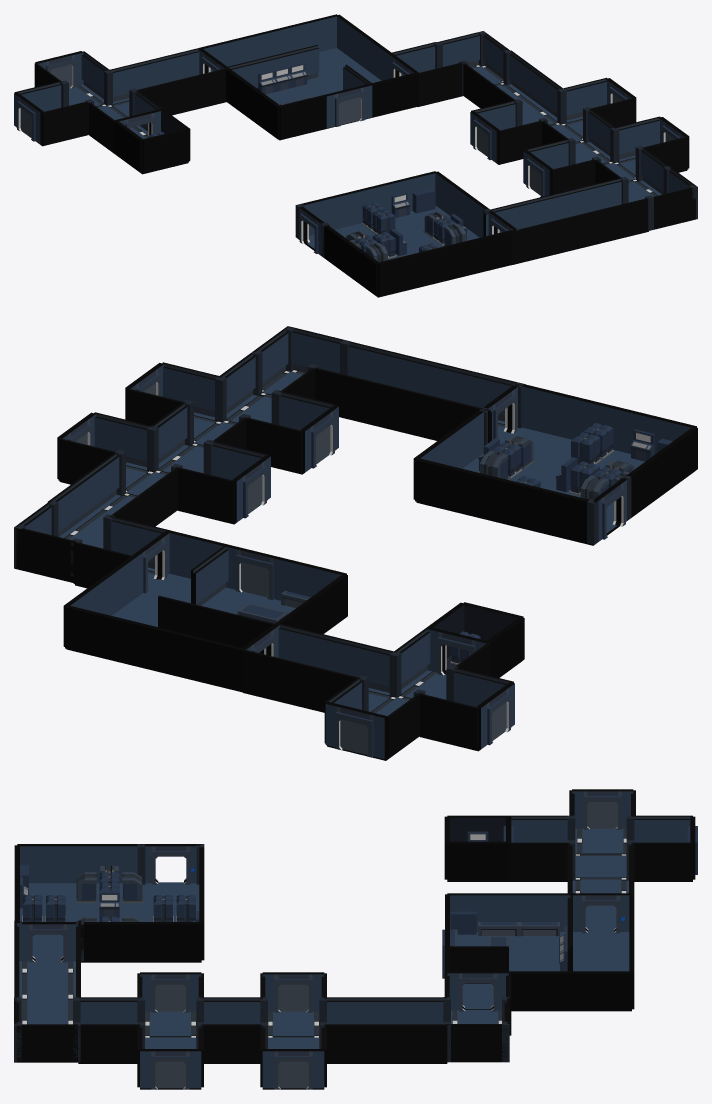
The model's file is LEVEL1.fbx.
3 views of the same model, one above another, from view 1: azimuth 30°, elevation 25°; view 2: azimuth 150°, elevation 25°; view 3: azimuth 270°, elevation 25° (orthographic). The views are drawn at different scales.
Visible parts, largest first — view 1: LaboratorySquareFloor, LaboratorySquareFloor.001, PanicRoomWall, LaboratoryWall.003, LaboratoryWall, LaboratoryWall.018, LaboratoryWall.011, HallwayWallStraight.025, HallwayWallStraight.027, HallwayWallStraight.000, HallwayWallStraight.014, HallwayWallStraight.009 (+63 smaller); view 2: LaboratorySquareFloor.001, LaboratorySquareFloor, LaboratoryWall.015, LaboratoryWall.006, LaboratoryWall.016, LaboratoryWall.007, LaboratoryWall.005, HallwayWallStraight.026, HallwayWallStraight.008, HallwayWallStraight.005, HallwayWallStraight.030, HallwayWallStraight.034 (+69 smaller); view 3: LaboratorySquareFloor, LaboratorySquareFloor.001, LaboratoryWall.017, LaboratoryWall.008, PanicRoomWall.003, HallwayWallStraight.016, LaboratoryWall.001, HallwayWallStraight.032, LaboratoryWall.010, HallwayWallStraight.003, HallwayWallStraight.002, HallwayWallStraight.018 (+51 smaller).
Boxes of the visible parts, box(x1,y1,x2,y2) form: LaboratorySquareFloor: box(265, 48, 417, 140); LaboratorySquareFloor.001: box(305, 205, 510, 297); PanicRoomWall: box(142, 128, 189, 172); LaboratoryWall.003: box(279, 95, 326, 139); LaboratoryWall: box(371, 72, 418, 117); LaboratoryWall.018: box(378, 251, 424, 296); LaboratoryWall.011: box(423, 240, 470, 285); HallwayWallStraight.025: box(557, 209, 604, 252); HallwayWallStraight.027: box(512, 220, 558, 263); HallwayWallStraight.000: box(42, 101, 87, 144); HallwayWallStraight.014: box(418, 62, 464, 105); HallwayWallStraight.009: box(181, 68, 227, 111); LaboratorySquareFloor.001: box(416, 428, 693, 545); LaboratorySquareFloor: box(66, 573, 295, 692); LaboratoryWall.015: box(474, 472, 535, 529); LaboratoryWall.006: box(124, 619, 184, 676); LaboratoryWall.016: box(415, 458, 475, 515); LaboratoryWall.007: box(65, 606, 126, 662); LaboratoryWall.005: box(183, 634, 243, 691); HallwayWallStraight.026: box(371, 381, 430, 437); HallwayWallStraight.008: box(242, 649, 301, 705); HallwayWallStraight.005: box(420, 693, 478, 749); HallwayWallStraight.030: box(16, 528, 76, 582); HallwayWallStraight.034: box(174, 467, 234, 522); LaboratorySquareFloor: box(457, 931, 631, 1011); LaboratorySquareFloor.001: box(20, 882, 201, 962); LaboratoryWall.017: box(140, 922, 201, 961); LaboratoryWall.008: box(570, 971, 631, 1010); PanicRoomWall.003: box(447, 841, 508, 880); HallwayWallStraight.016: box(385, 1024, 447, 1062); LaboratoryWall.001: box(509, 971, 570, 1010); HallwayWallStraight.032: box(16, 1024, 77, 1062); LaboratoryWall.010: box(81, 922, 140, 961); HallwayWallStraight.003: box(508, 842, 567, 880); HallwayWallStraight.002: box(631, 842, 692, 880); HallwayWallStraight.018: box(327, 1024, 385, 1062).
Bounding box in the file's own units: 6100 × 425 × 6676.
